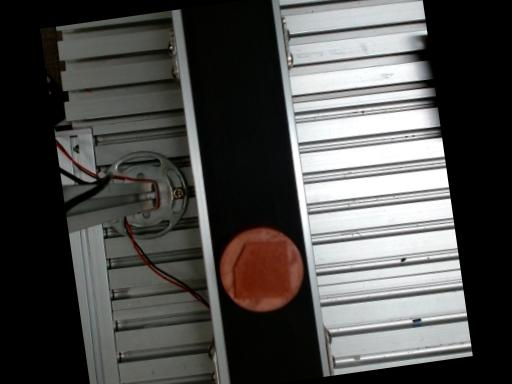Brown_Waper: (218, 227, 303, 312)
Not_Square: (233, 240, 292, 299)
